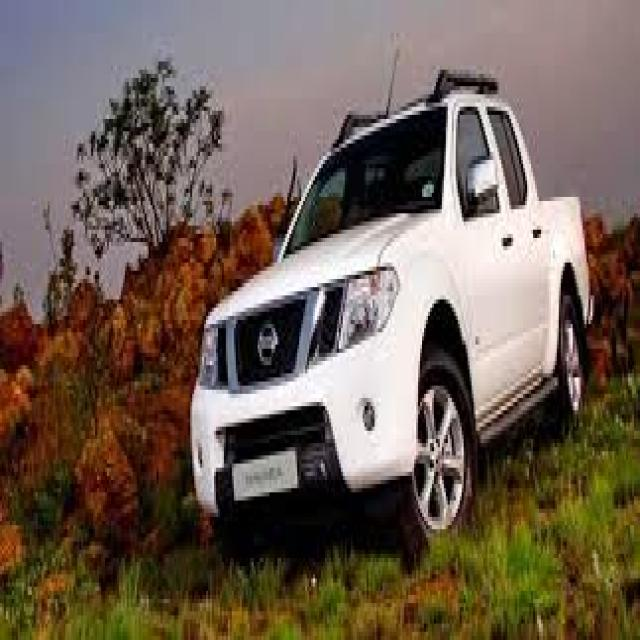Pickup Trucks: (190, 70, 596, 562)
